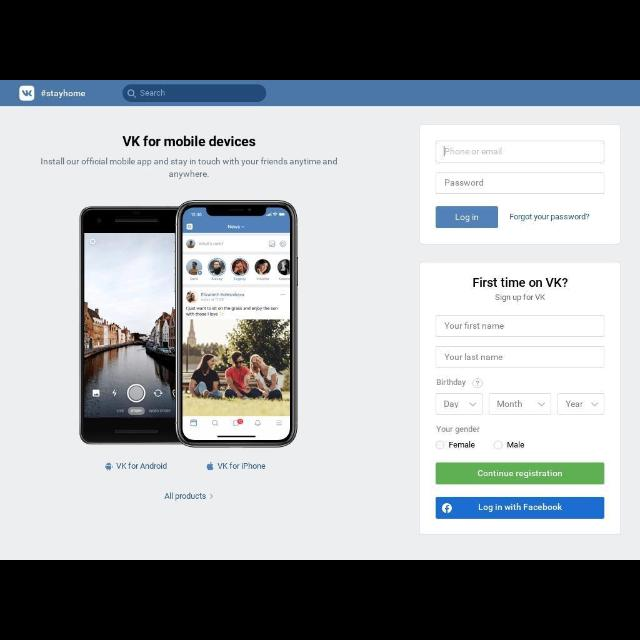backgroundimage: (2, 108, 640, 554)
checkbox: (494, 440, 502, 448), (435, 442, 445, 448)
icon: (20, 86, 34, 100), (472, 378, 482, 388), (104, 463, 114, 471), (128, 90, 136, 98), (206, 462, 214, 470), (591, 402, 599, 406), (540, 403, 546, 407), (470, 402, 476, 406), (210, 494, 213, 498)
input: (438, 316, 602, 338), (436, 347, 604, 368), (437, 142, 605, 162), (436, 173, 604, 193), (124, 85, 266, 101)
spinner: (491, 394, 552, 416), (436, 394, 484, 416), (558, 394, 604, 416)
text: (40, 159, 338, 177), (122, 136, 258, 148), (472, 278, 570, 288), (509, 214, 588, 222), (444, 353, 504, 362), (446, 322, 504, 331), (445, 148, 501, 156), (444, 178, 484, 188), (495, 294, 545, 302), (40, 90, 86, 98), (219, 462, 265, 470), (117, 464, 167, 471), (437, 426, 479, 434), (166, 493, 204, 499), (438, 380, 464, 388), (498, 401, 524, 409), (450, 443, 476, 449), (566, 400, 584, 408), (445, 400, 459, 410), (142, 90, 164, 96), (508, 442, 522, 450)
textbutton: (436, 462, 604, 483), (438, 498, 602, 518), (435, 206, 499, 228)
